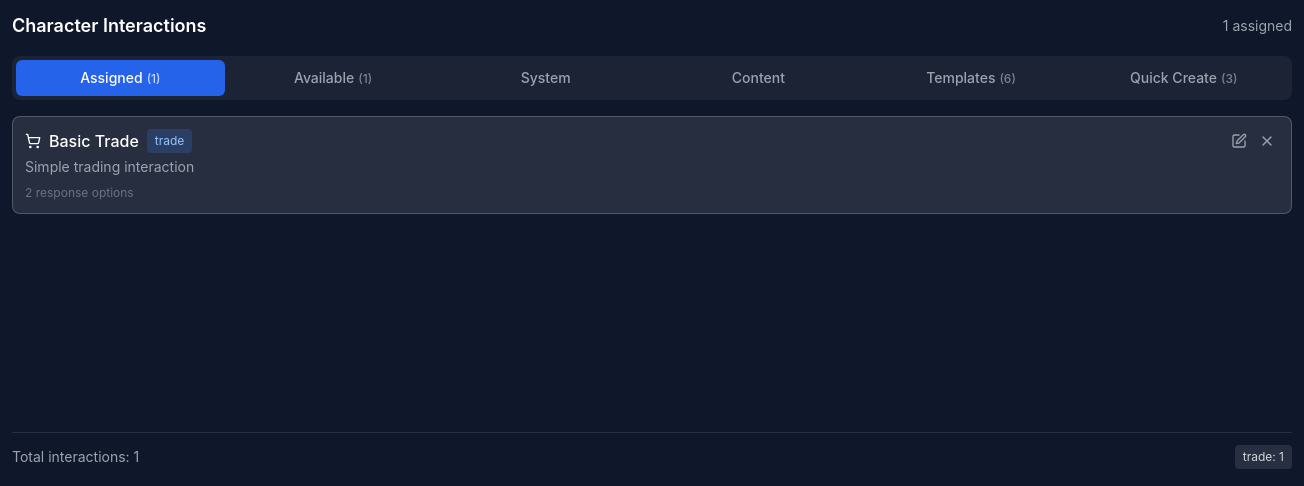
Scenario: InteractionAssignmentPanel › can switch to available interactions tab
Click the button "Available(1)" at (333, 78), box x1=229 y1=60 x2=437 y2=96
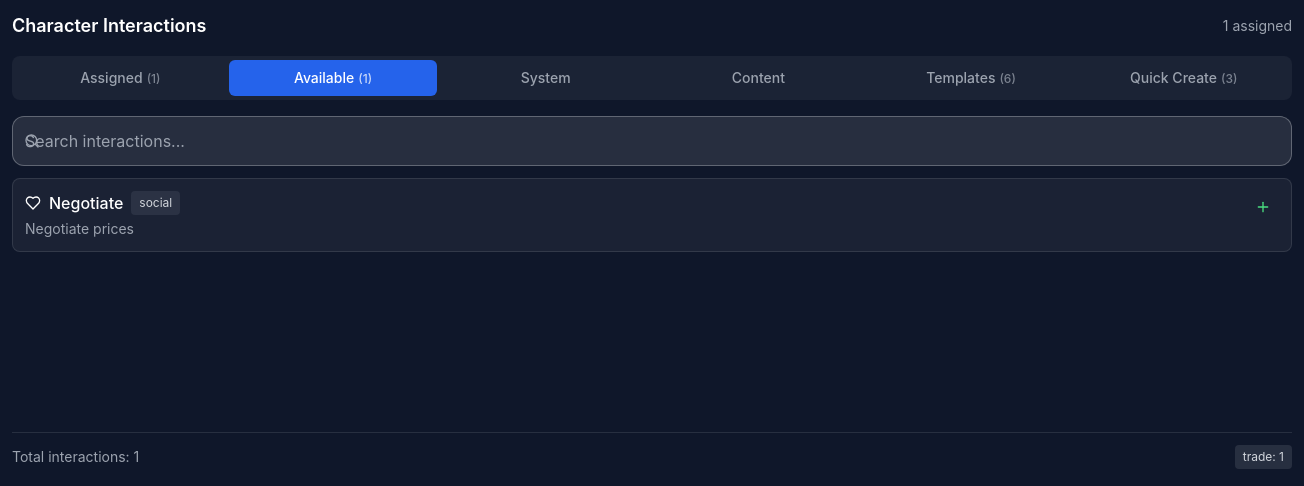
Result: the field with placeholder "Search interactions..." is shown at x1=12 y1=116 x2=1292 y2=166
Result: the heading "Negotiate" is shown at x1=49 y1=191 x2=123 y2=215
